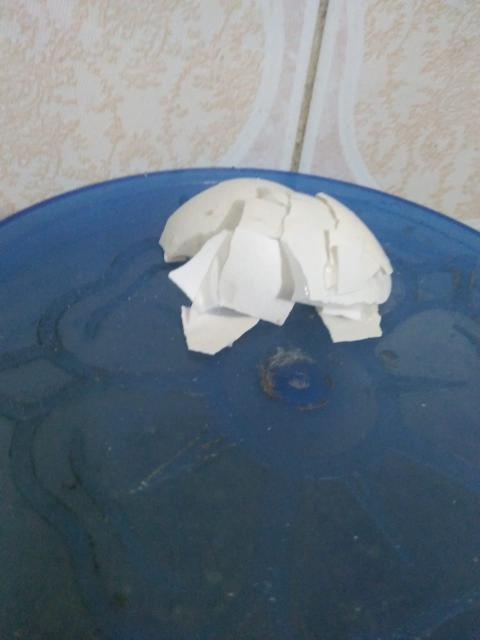Roto: (158, 176, 394, 354)
